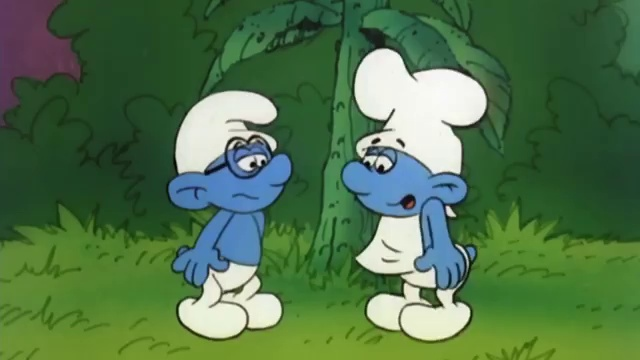smurf: (340, 45, 489, 343), (166, 88, 291, 341)
